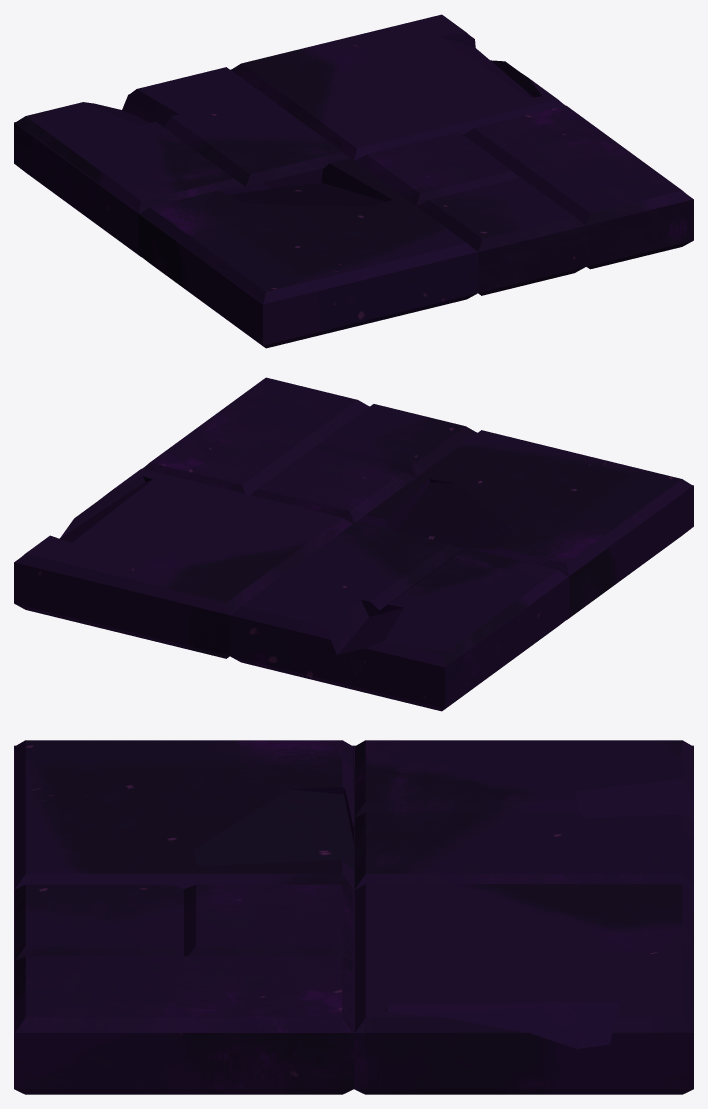
The model's file is gen_floor_7.fbx.
3 renders of one model, top to bottom at view 1: azimuth 30°, elevation 25°; view 2: azimuth 150°, elevation 25°; view 3: azimuth 270°, elevation 25°, orthographic. The views are drawn at different scales.
Parts seen in each view (by area): view 1: gen_floor_7; view 2: gen_floor_7; view 3: gen_floor_7.
Part boxes in pixels (<box>): gen_floor_7: <box>14,14,693,348</box>; gen_floor_7: <box>14,377,693,711</box>; gen_floor_7: <box>14,740,693,1094</box>.
Bounding box in the file's own units: 800 × 100 × 800.
